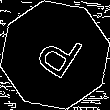P_SW: (26, 23, 84, 87)
